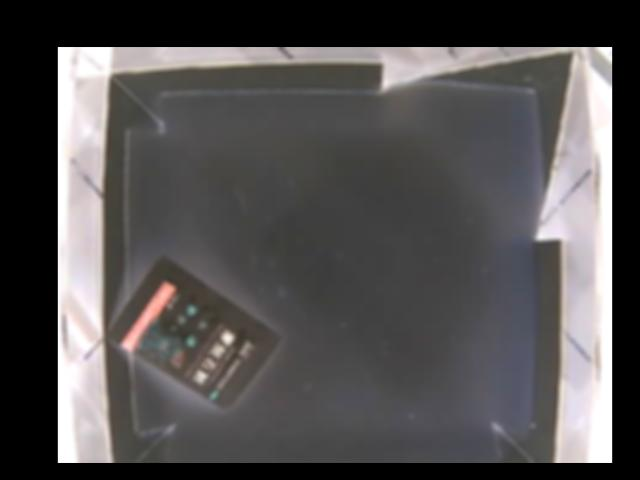Medicine: (109, 256, 282, 410)
